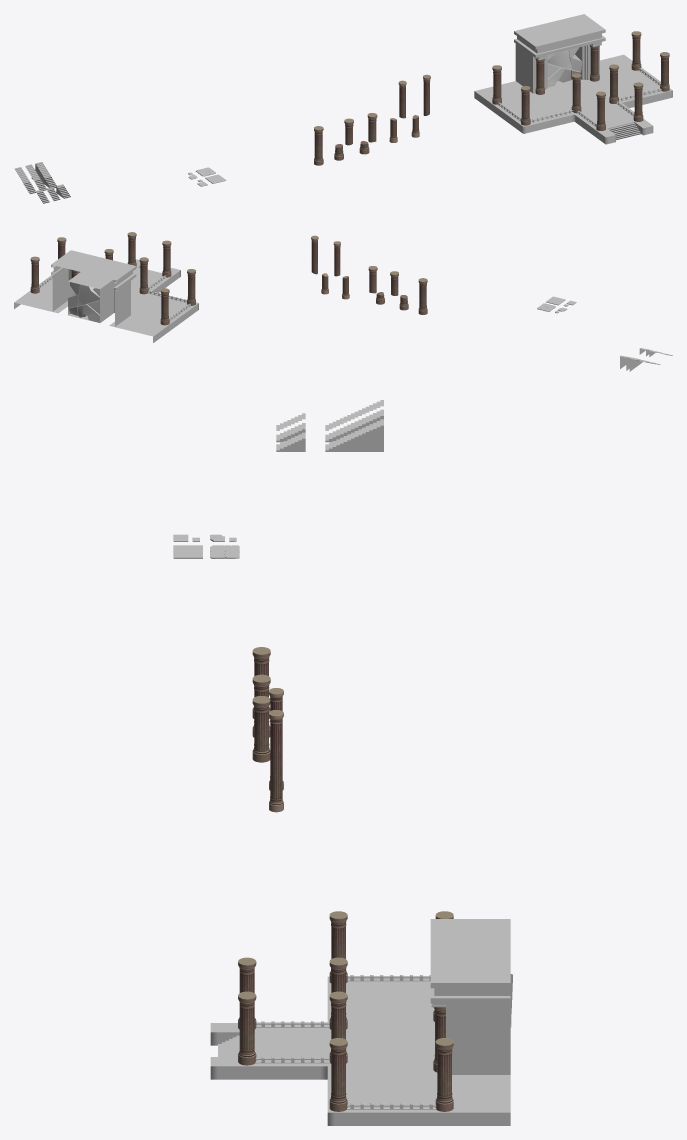
Rendered from Assets_04_Broken_Assets_Stairs.FBX.
3 renders of one model, top to bottom at view 1: azimuth 30°, elevation 25°; view 2: azimuth 150°, elevation 25°; view 3: azimuth 270°, elevation 25°, orthographic. The views are drawn at different scales.
Parts seen in each view (by area): view 1: Entrance, Pillar_x10_LP (×11), Blocked_Entrance, Stair_x4_two_sides; view 2: Entrance, Pillar_x10_LP (×7), Blocked_Entrance, Pillar_x16_LP_Broken_04, Pillar_x16_LP_Broken_02; view 3: Entrance, Pillar_x10_LP (×3), Stair_x4_two_sides.
Part boxes in pixels (box(x1,y1,x2,y2)): Entrance: box(514, 14, 605, 93); Pillar_x10_LP (×11): box(314, 31, 669, 165); Blocked_Entrance: box(547, 47, 581, 87); Stair_x4_two_sides: box(35, 162, 56, 188); Entrance: box(51, 250, 136, 326); Pillar_x10_LP (×7): box(30, 232, 427, 325); Blocked_Entrance: box(68, 282, 99, 322); Pillar_x16_LP_Broken_04: box(311, 235, 318, 274); Pillar_x16_LP_Broken_02: box(333, 241, 340, 276); Entrance: box(430, 919, 510, 1074); Pillar_x10_LP (×3): box(238, 991, 453, 1111); Stair_x4_two_sides: box(325, 419, 383, 451).
Bounding box in the file's own units: 190 × 26.61 × 46.39.
